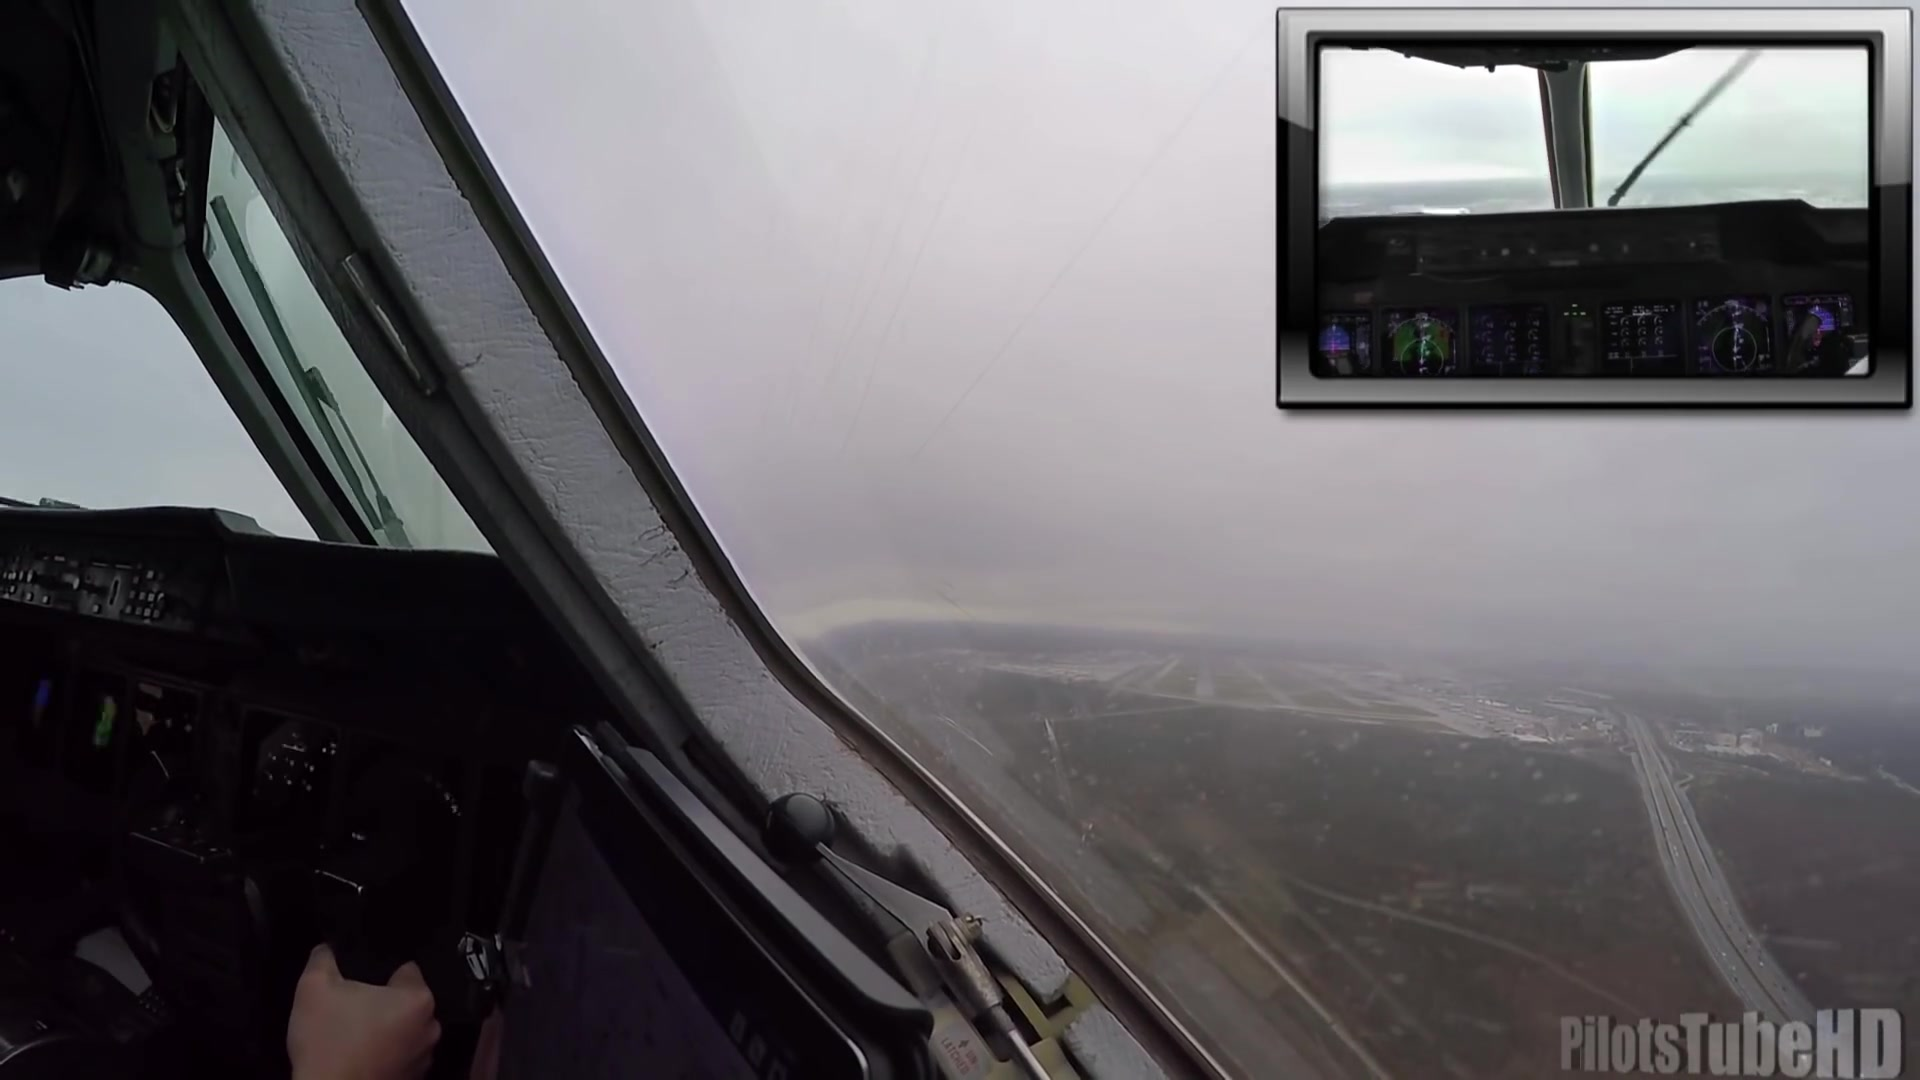runway: (1193, 651, 1215, 698)
